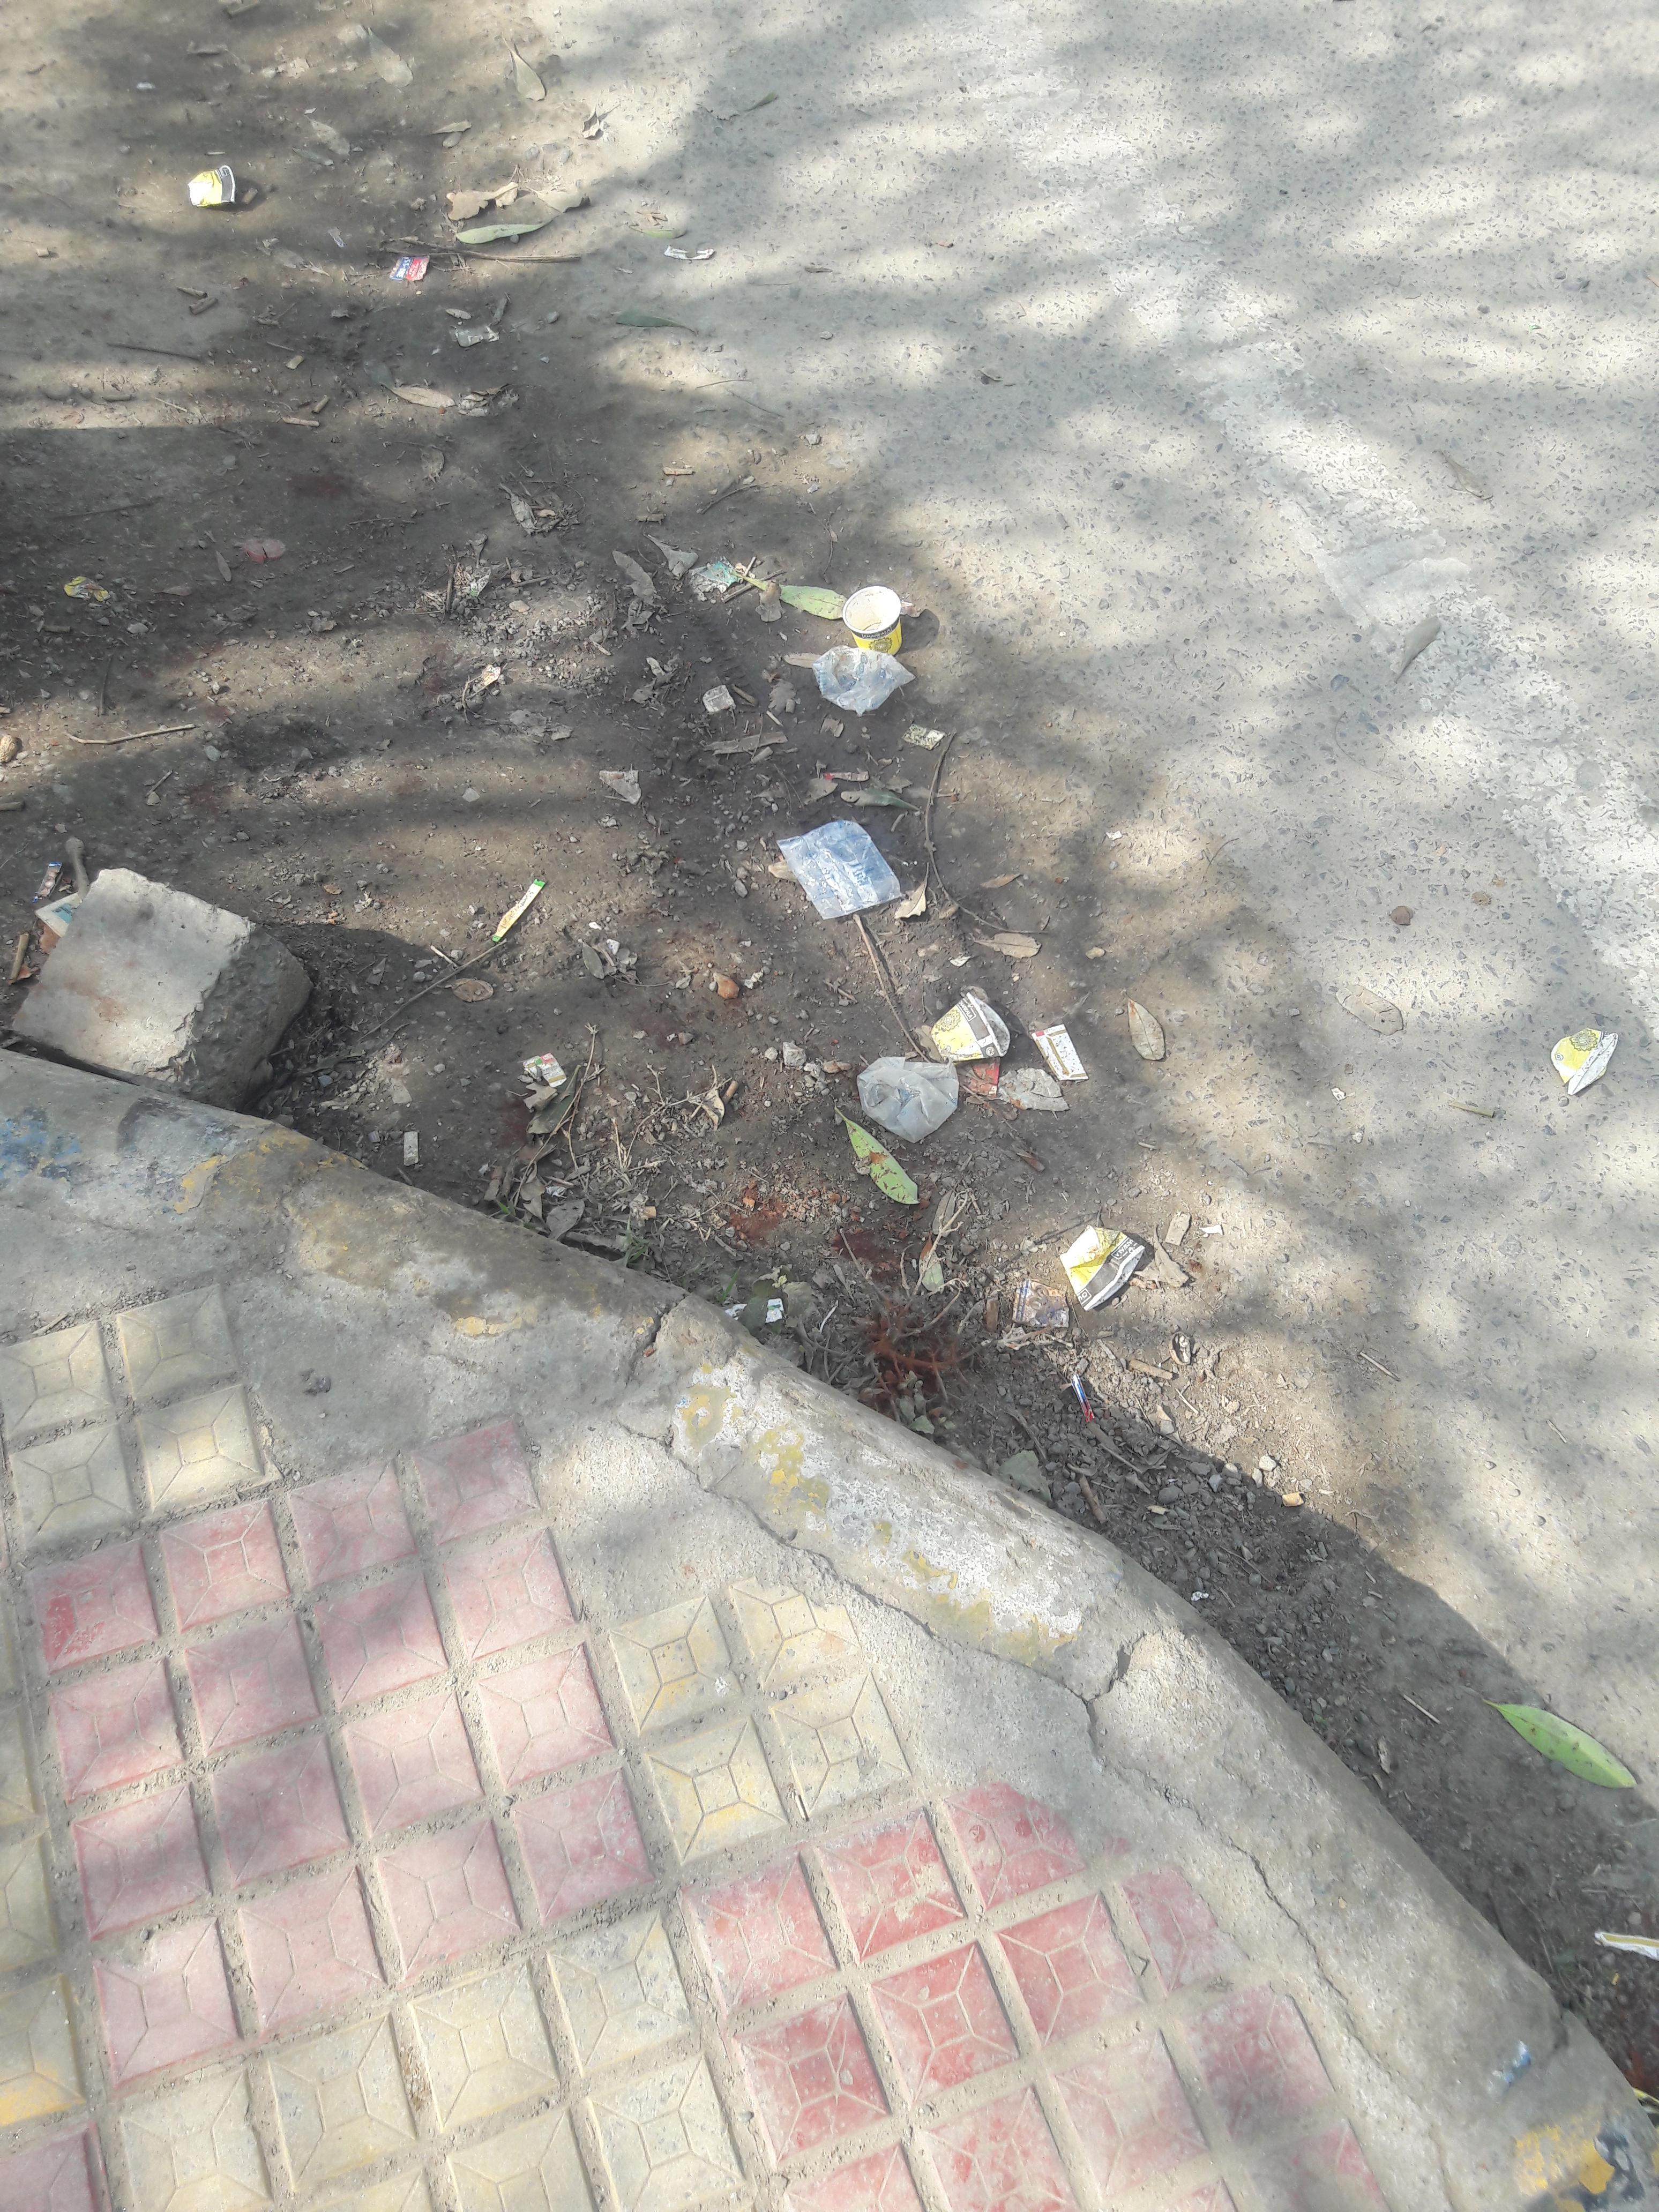trash: (741, 554, 1121, 1172)
